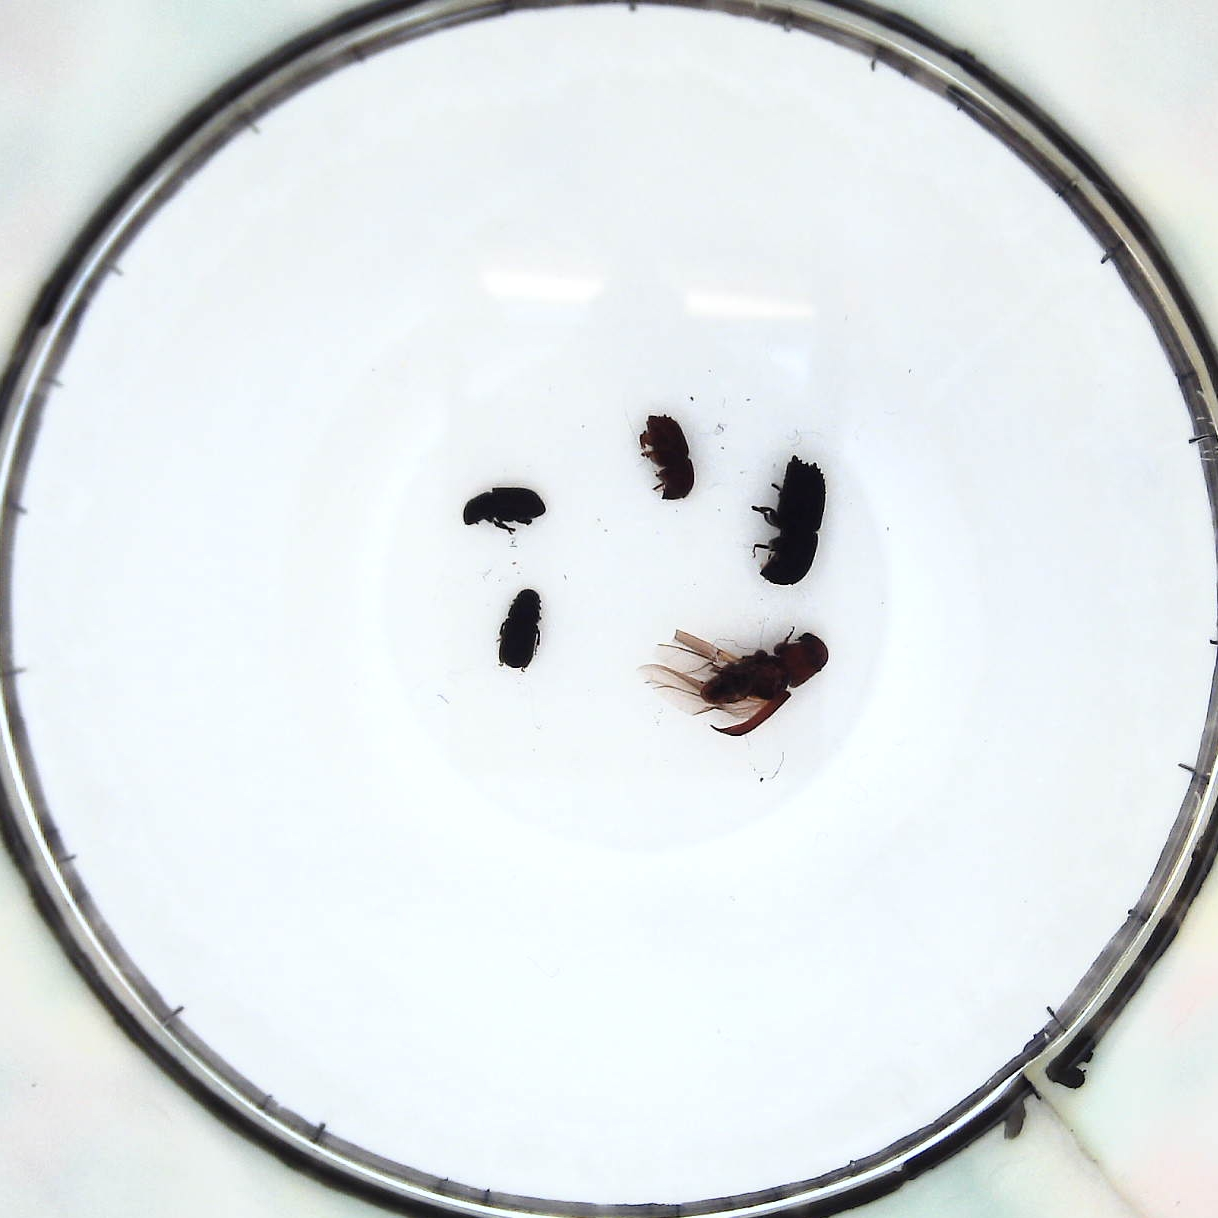Boerner: (752, 460, 826, 589)
Leconte: (663, 623, 826, 735)
Linnaeus: (640, 413, 693, 501)
armandi: (460, 486, 542, 532), (496, 589, 536, 667)
